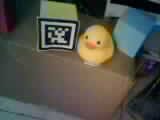duck: (75, 15, 109, 56)
